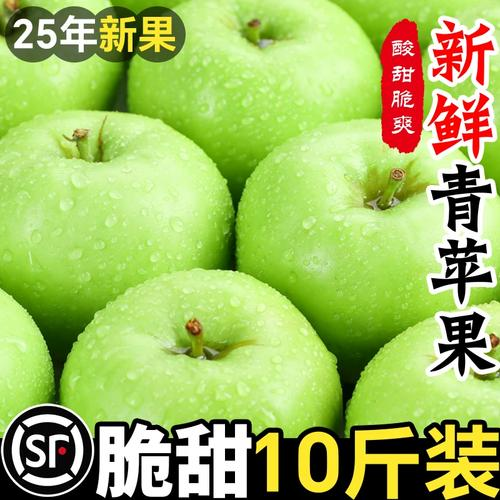unripe: (232, 107, 500, 372), (0, 101, 237, 353), (52, 267, 351, 462), (131, 0, 399, 180), (335, 293, 500, 450)
